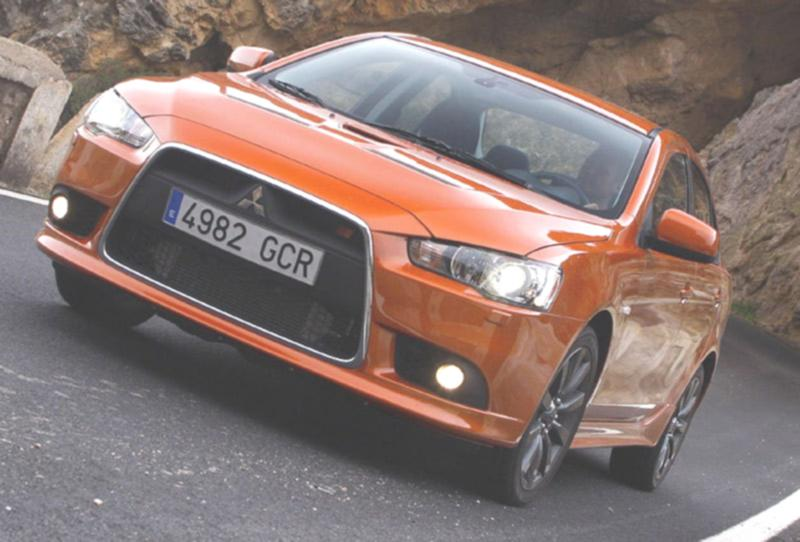Mitsubishi: (232, 174, 278, 228)
